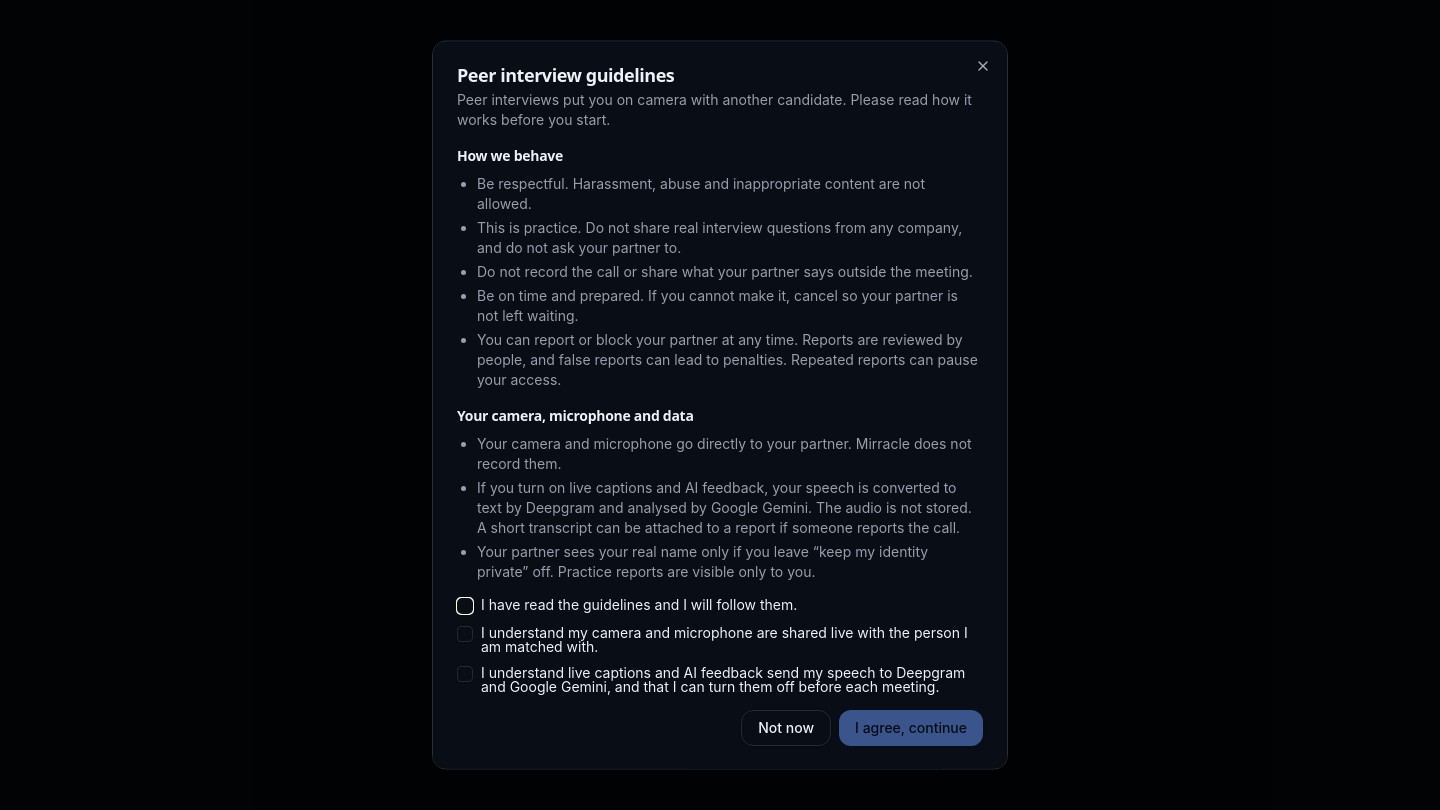
Test: PeerGuidelinesDialog › keeps the dialog open and explains when saving fails
The image size is (1440, 810).
Click the 1st checkbox named "read the guidelines": click(465, 606) [457,598,473,614]
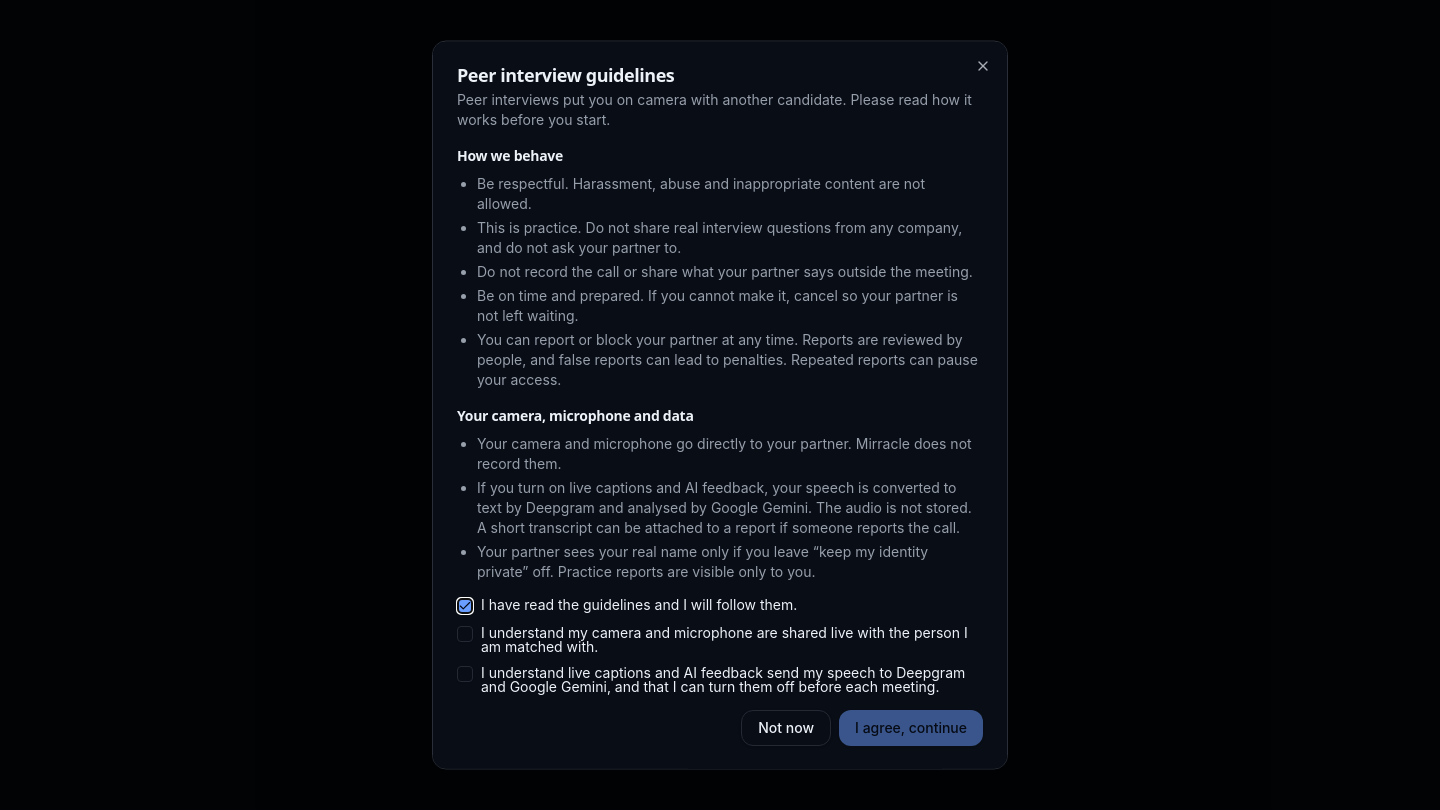
Click the 2nd checkbox named "camera and microphone are shared": click(465, 634) [457,626,473,642]
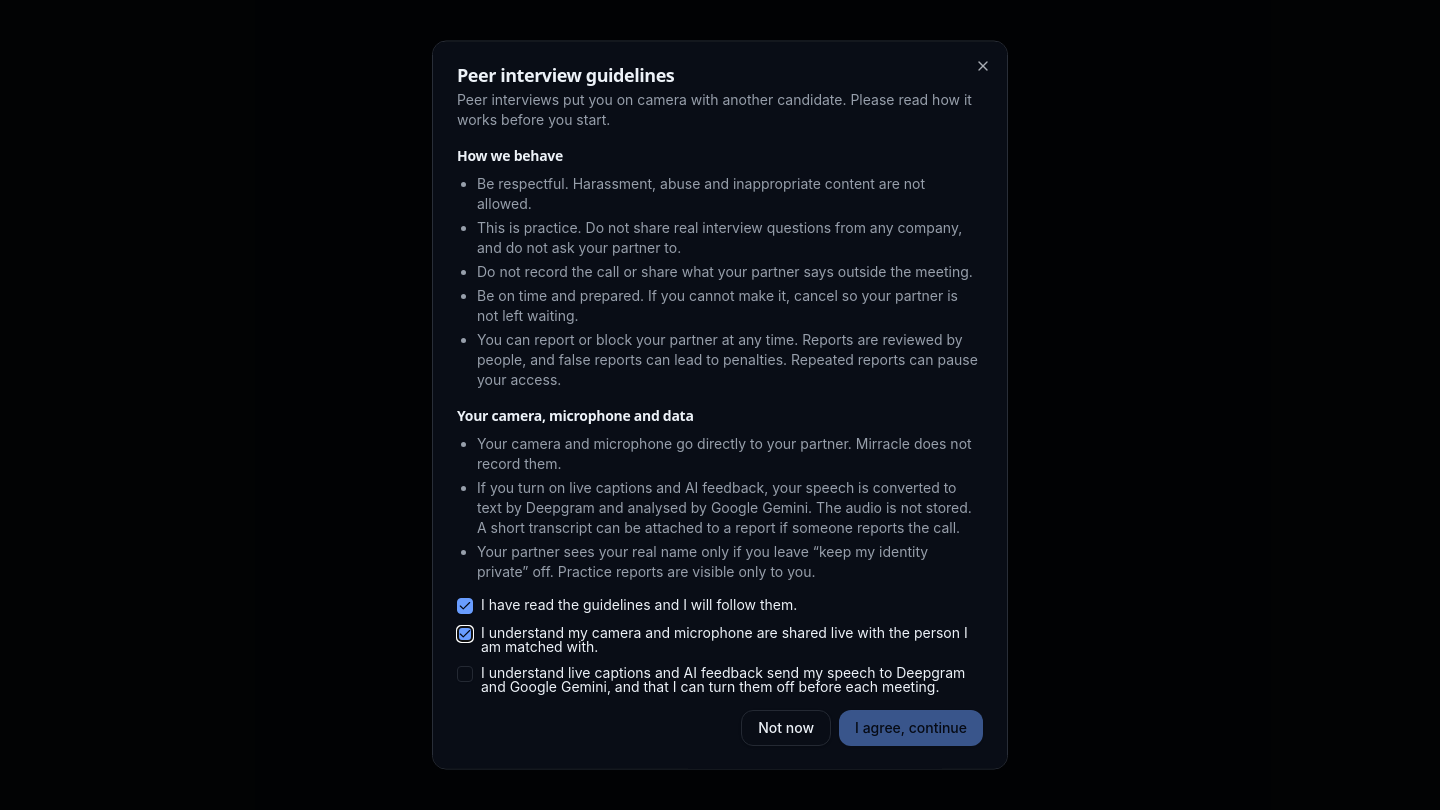
Click the 3rd checkbox named "live captions and AI feedback": click(465, 674) [457,666,473,682]
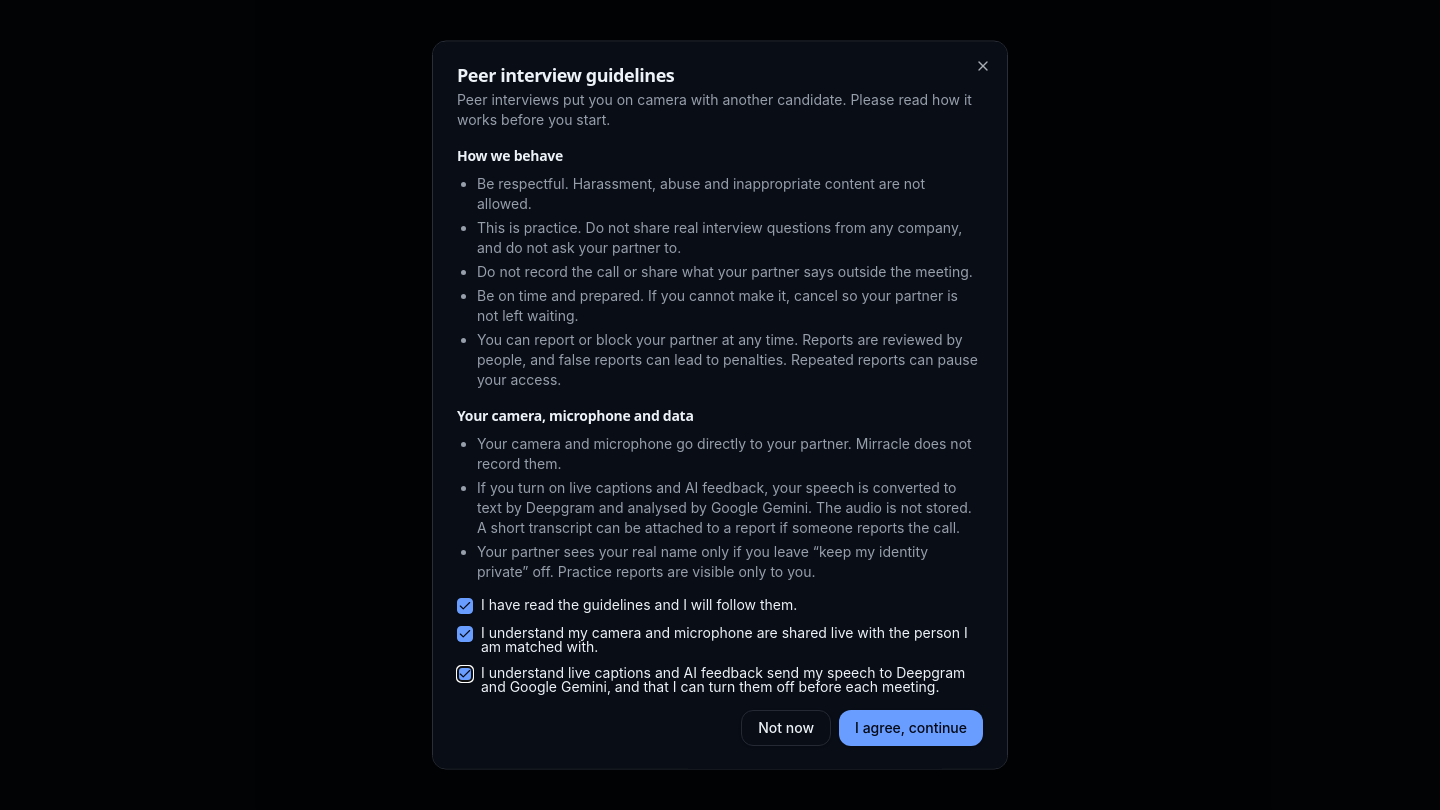
Click the button "I agree, continue": click(911, 728) [839,710,983,746]
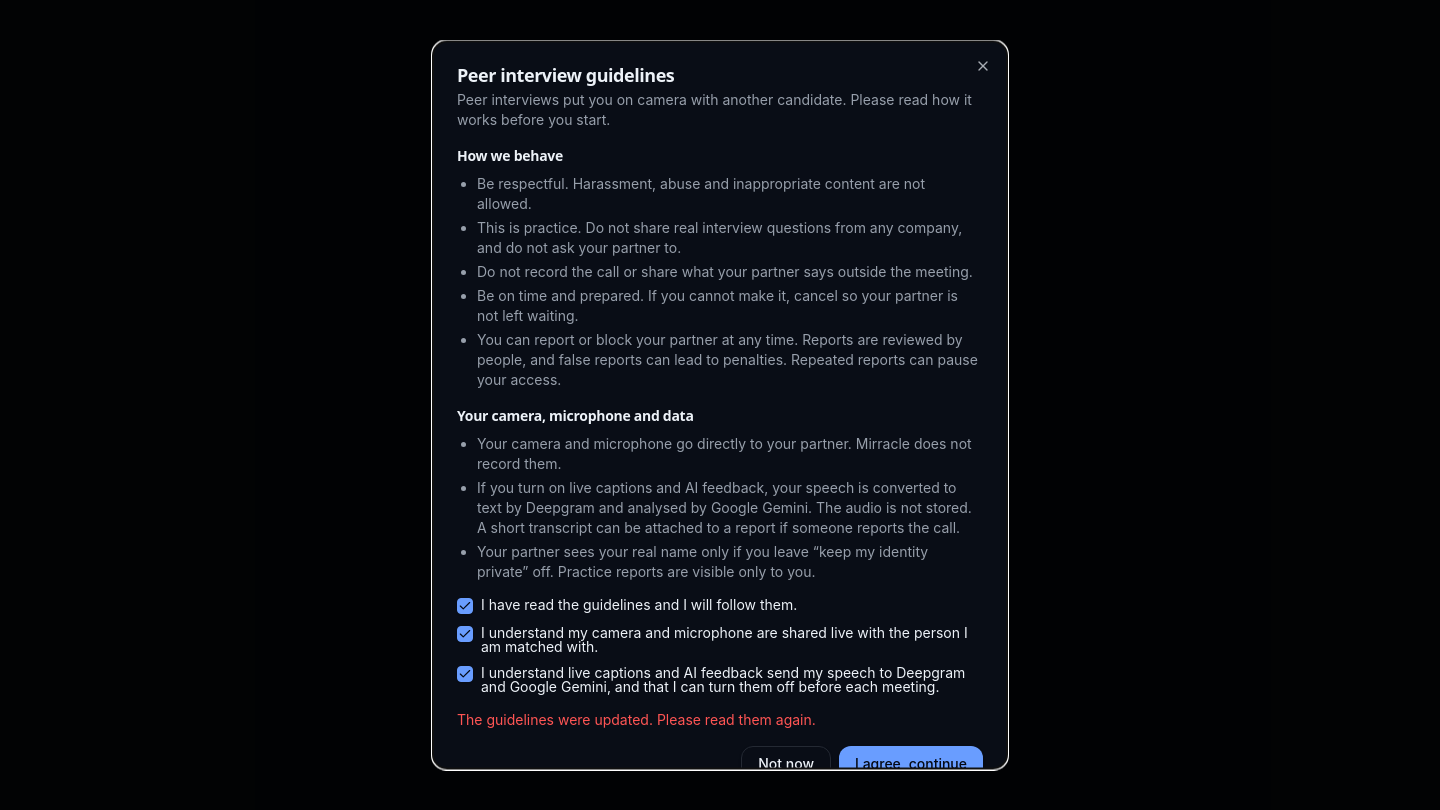
Result: the message shows "were updated" at [457,710,816,728]
